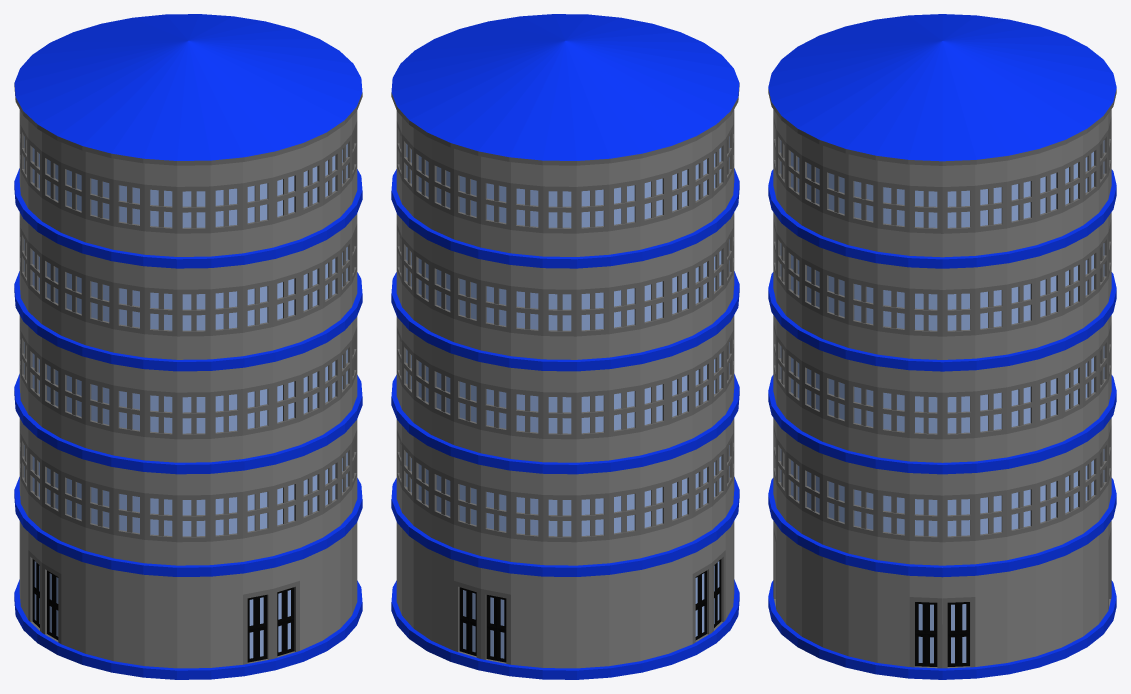
The model's file is building4.fbx.
3 renders of one model, left to right at view 1: azimuth 30°, elevation 25°; view 2: azimuth 150°, elevation 25°; view 3: azimuth 270°, elevation 25°, orthographic.
Parts seen in each view (by area): view 1: building4; view 2: building4; view 3: building4.
Boxes of the visible parts, left/top/right/bottom form: building4: left=14, top=14, right=362, bottom=679; building4: left=391, top=14, right=739, bottom=679; building4: left=768, top=14, right=1116, bottom=679.
Bounding box in the file's own units: 676 × 1210 × 676.
